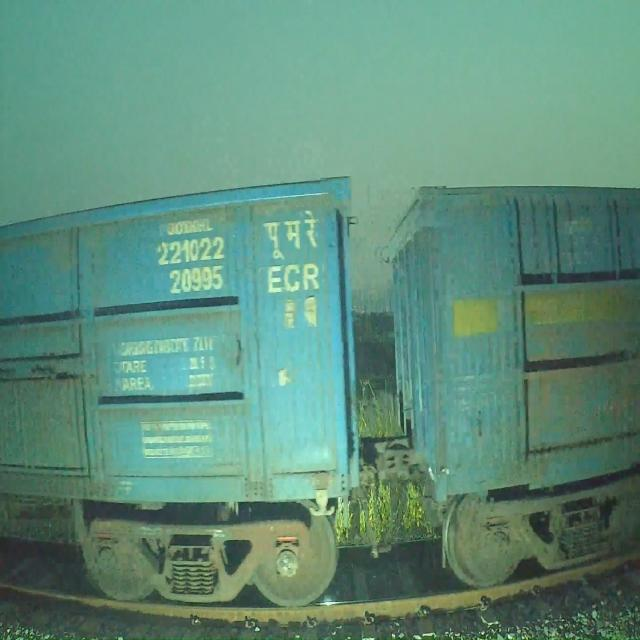WAgon-uic: (0, 173, 361, 604), (158, 236, 231, 298)
